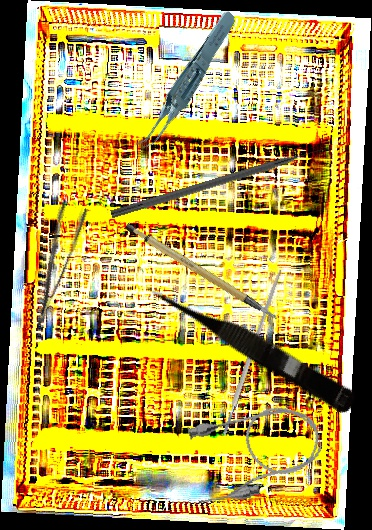Cannula: (179, 395, 330, 511)
Dressing Forceps: (15, 198, 91, 328)
Hook Surgical: (110, 145, 325, 222)
Micro Scissor: (143, 272, 363, 417)
Scalpel Handle: (122, 204, 279, 343), (219, 268, 284, 437)
Tissue Forceps: (108, 8, 261, 155)
